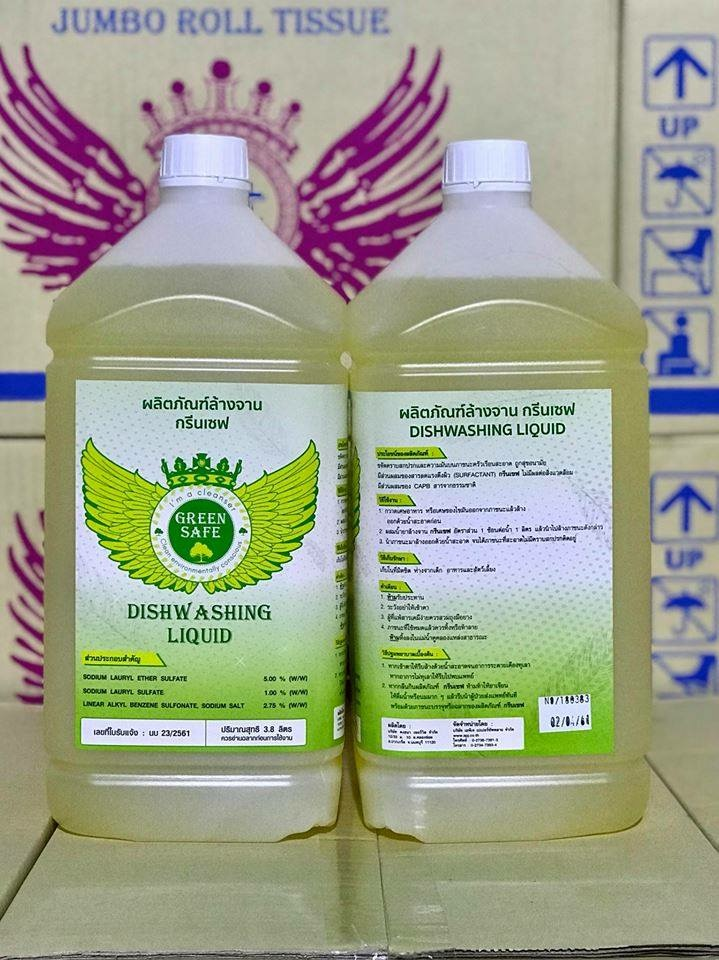Cleaning_solution: (346, 129, 663, 852), (38, 128, 352, 848)
